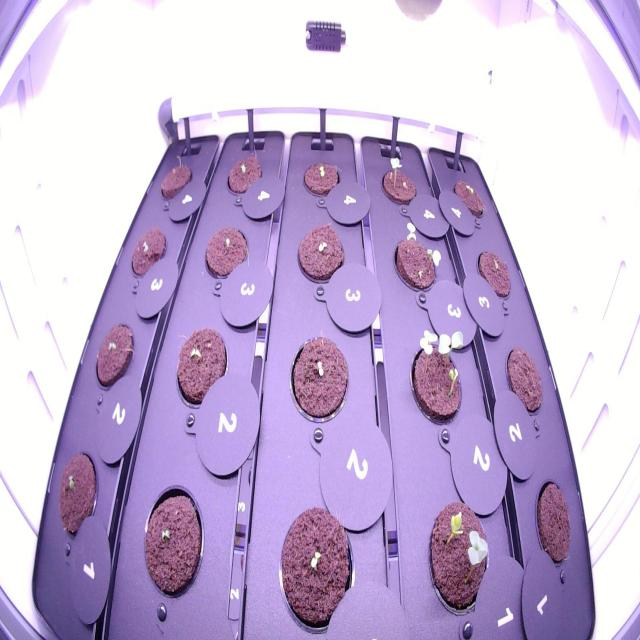germination: (274, 497, 362, 637), (418, 484, 494, 628), (135, 476, 207, 607), (400, 314, 471, 434), (282, 328, 354, 428), (173, 320, 231, 419), (54, 445, 103, 546), (390, 211, 444, 302), (293, 218, 350, 291), (92, 316, 138, 396), (126, 221, 172, 289), (376, 147, 419, 218), (221, 148, 268, 203), (448, 168, 488, 229), (297, 156, 344, 200)
pod: (529, 472, 575, 576), (501, 338, 549, 421), (197, 219, 253, 289), (472, 240, 516, 306), (155, 152, 197, 202)
